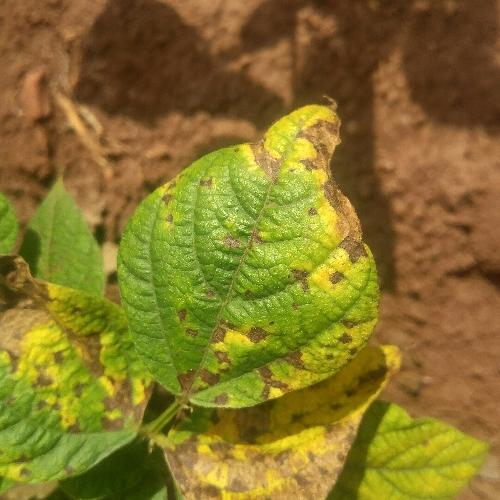hawar: (117, 104, 381, 407)
